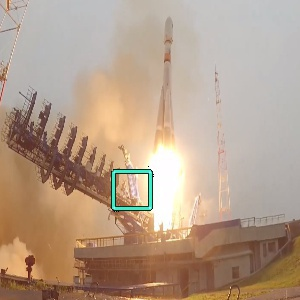square: (111, 168, 154, 211)
